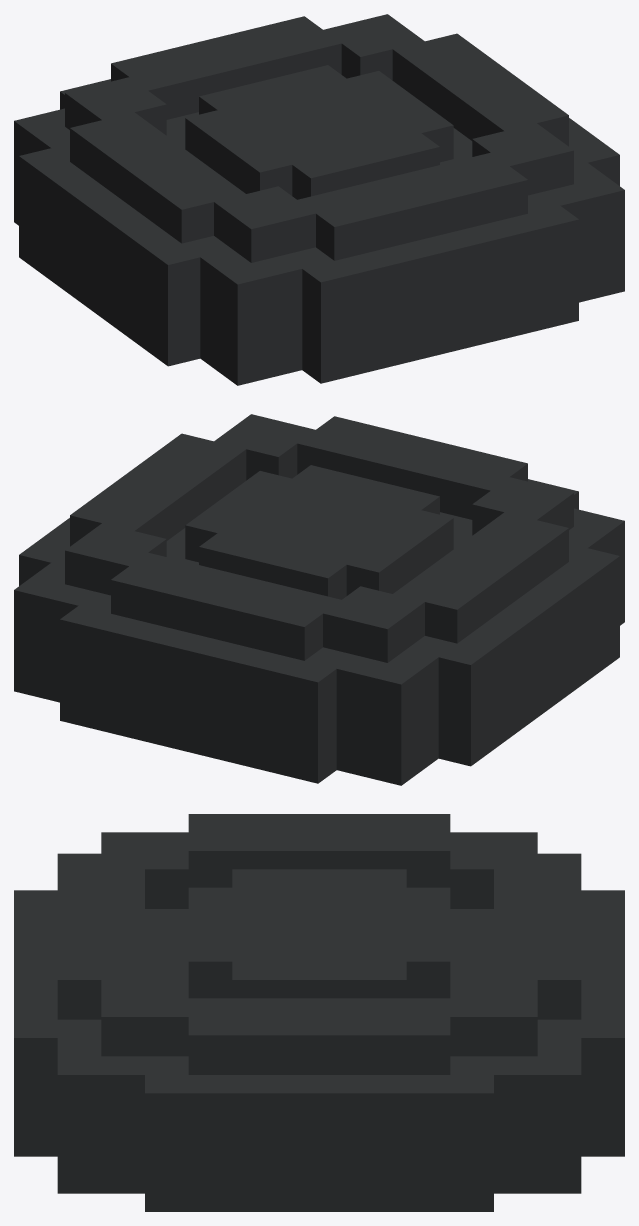
The model's file is man-v4-black.gltf.
3 views of the same model, one above another, from view 1: azimuth 30°, elevation 25°; view 2: azimuth 150°, elevation 25°; view 3: azimuth 270°, elevation 25° (orthographic). The views are drawn at different scales.
Visible parts, largest first — view 1: Untitled; view 2: Untitled; view 3: Untitled.
Part boxes in pixels (<box>): Untitled: <box>14,14,624,385</box>; Untitled: <box>14,414,624,785</box>; Untitled: <box>14,814,624,1211</box>.
Bounding box in the file's own units: 1.4 × 0.4 × 1.4.
1 material, 1 textured.
